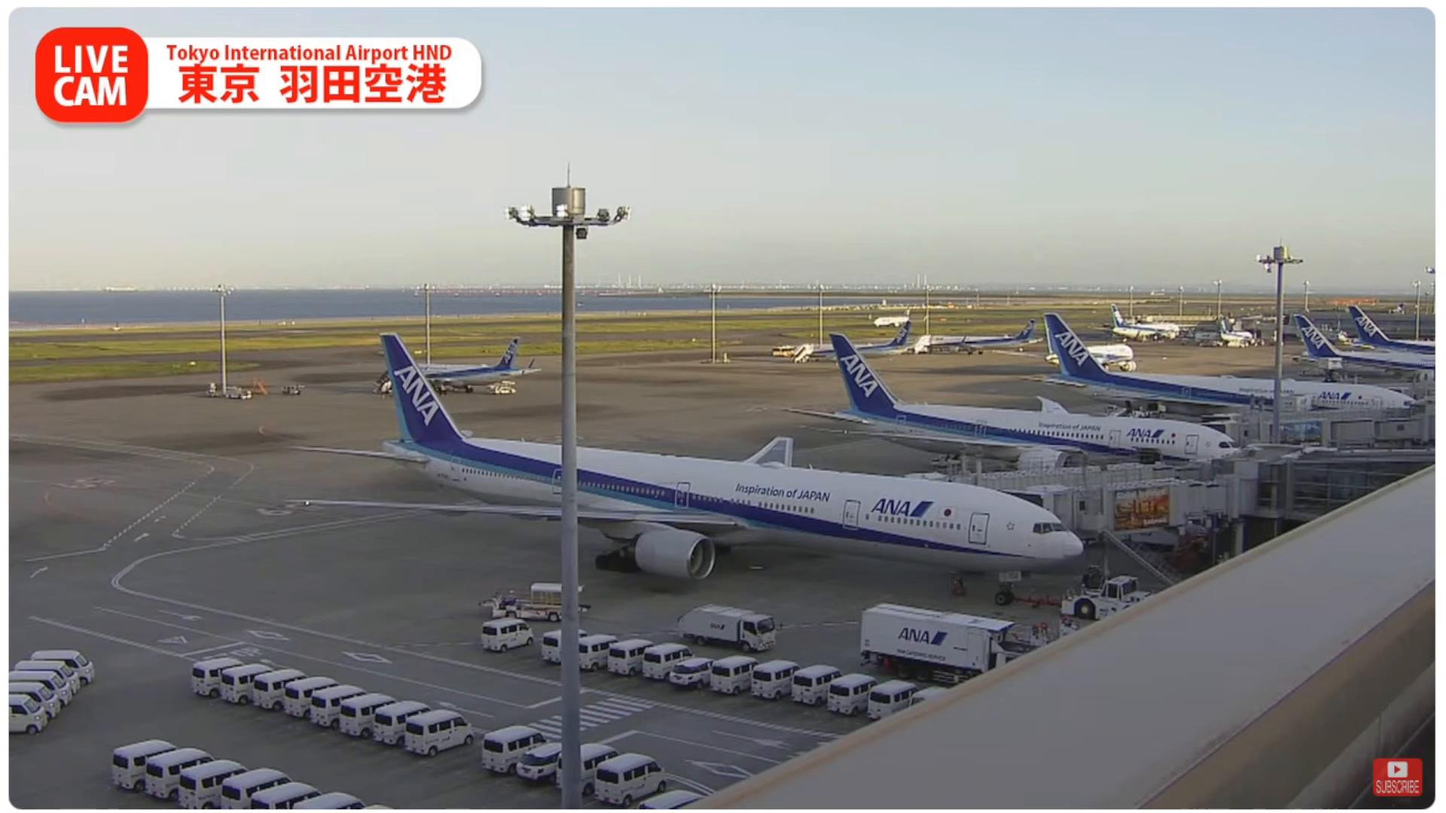APS: (1057, 573, 1156, 617)
Aerobridge: (990, 474, 1217, 523), (903, 458, 1204, 486)
Airplane: (290, 334, 1076, 584)
Baggage truck: (677, 602, 778, 651)
Catering: (864, 601, 1049, 687)
Skyloader: (485, 578, 589, 622)
Window: (1253, 443, 1435, 520)
